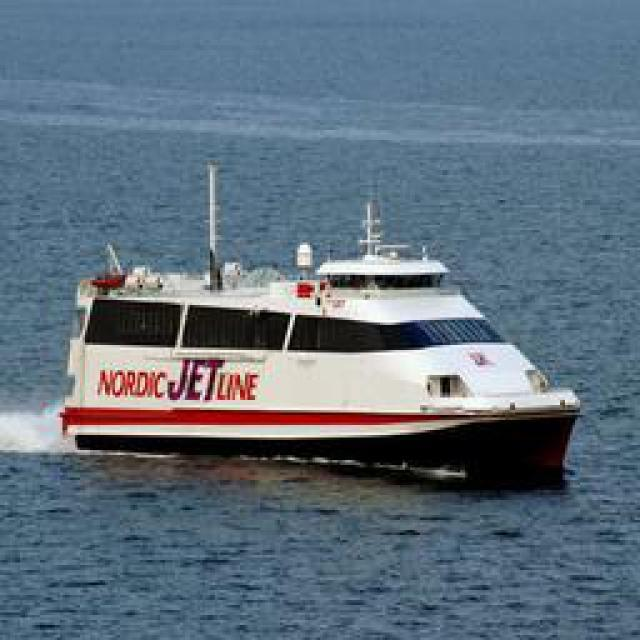Ship: (53, 189, 571, 462)
